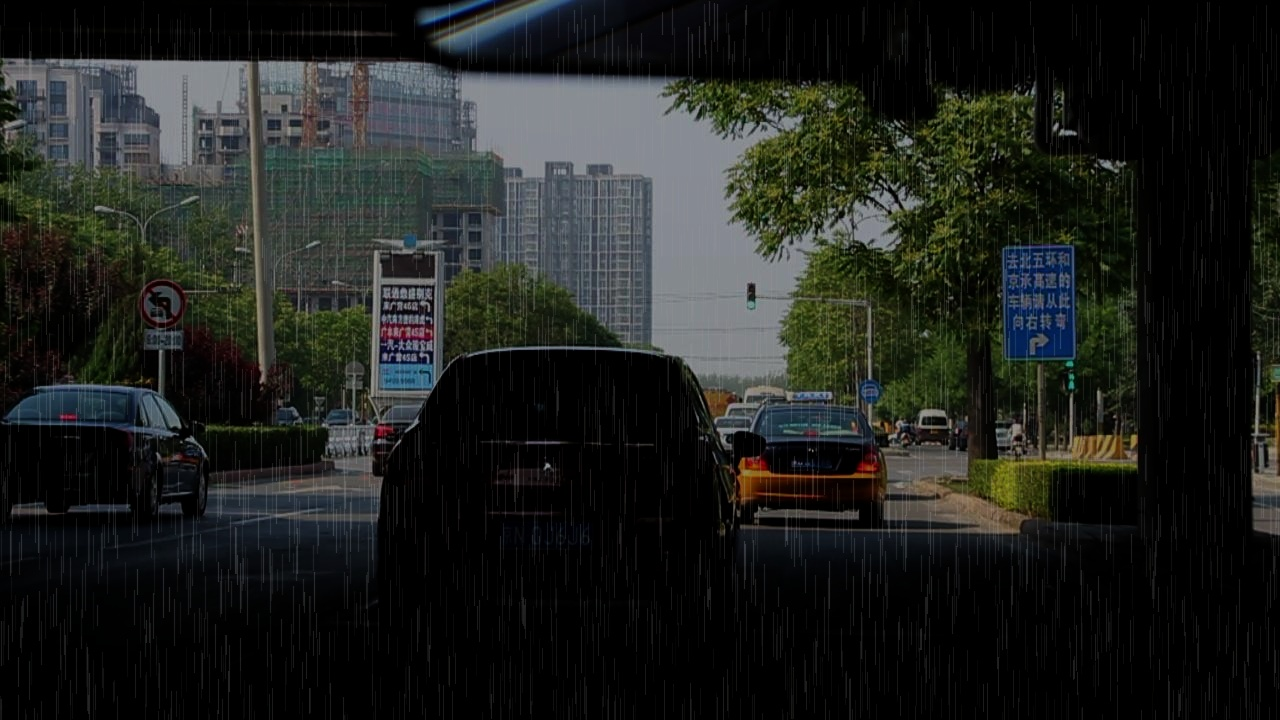Informative Signs: (858, 379, 883, 404)
Prohibitory Signs: (137, 278, 188, 330)
